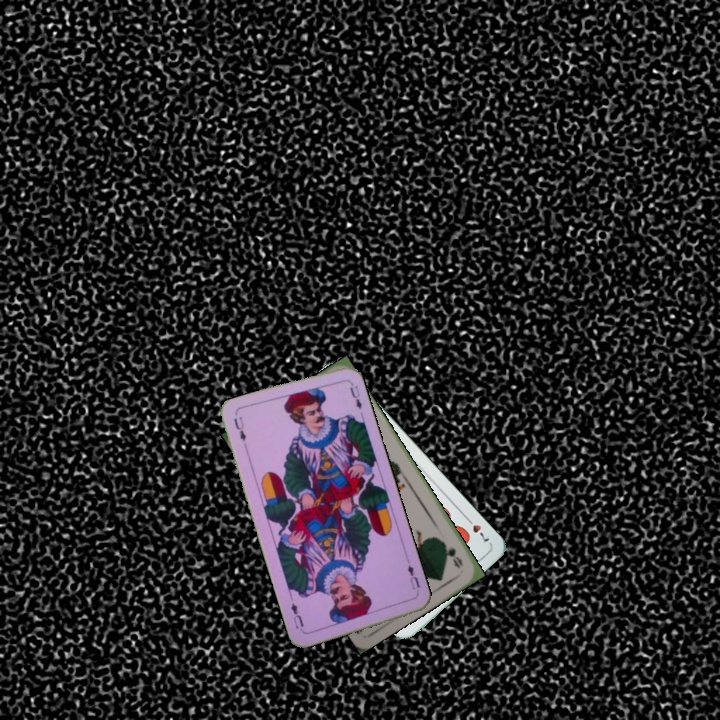EU: (403, 556, 423, 592), (230, 413, 249, 444)
GO: (437, 537, 466, 571)
H7: (461, 512, 492, 546)
